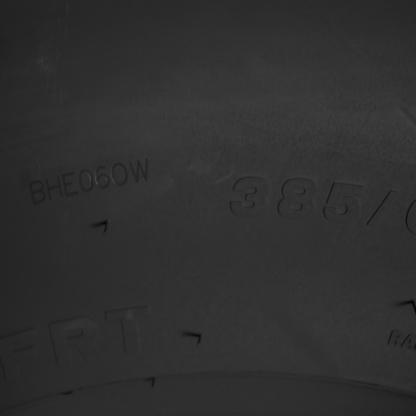ocr: (30, 157, 150, 207)
